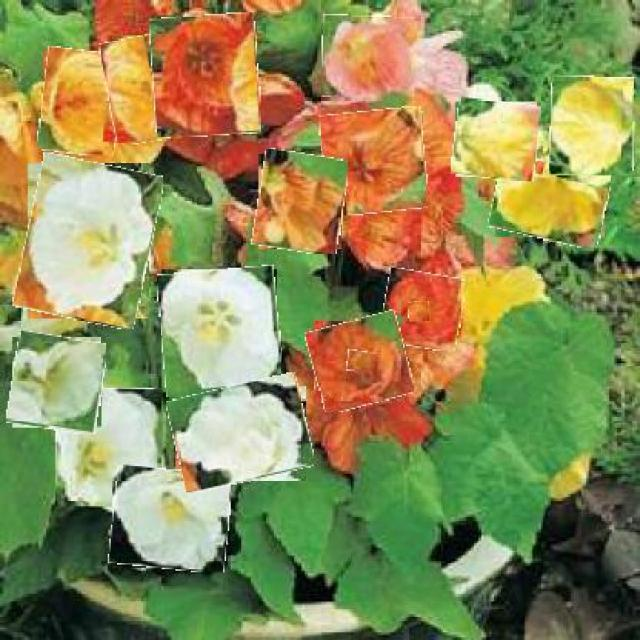Flower: (20, 158, 158, 325), (159, 267, 281, 396), (172, 380, 312, 488), (152, 14, 261, 137), (56, 388, 165, 510), (110, 469, 230, 572), (321, 109, 427, 215), (492, 158, 610, 244), (310, 315, 412, 410), (255, 151, 347, 254), (10, 335, 105, 433), (103, 33, 186, 144), (40, 50, 123, 156), (550, 76, 635, 178), (322, 15, 416, 98), (454, 100, 540, 182), (382, 271, 463, 351), (348, 350, 377, 372), (409, 302, 431, 323)
